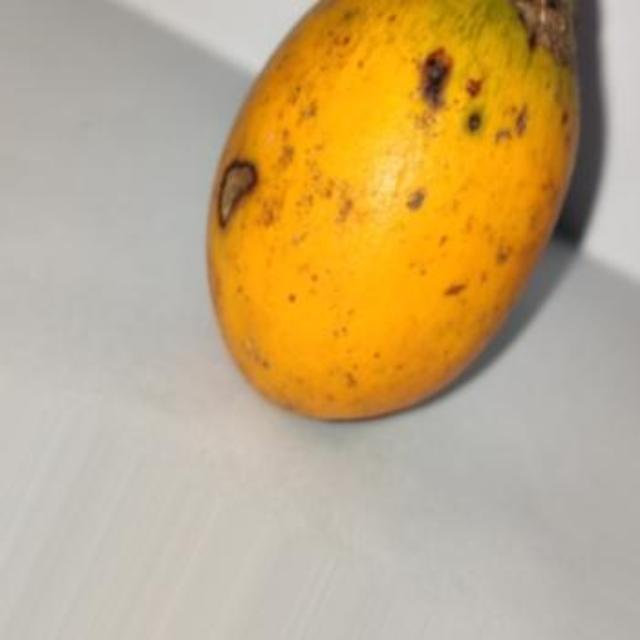good: (207, 0, 580, 424)
